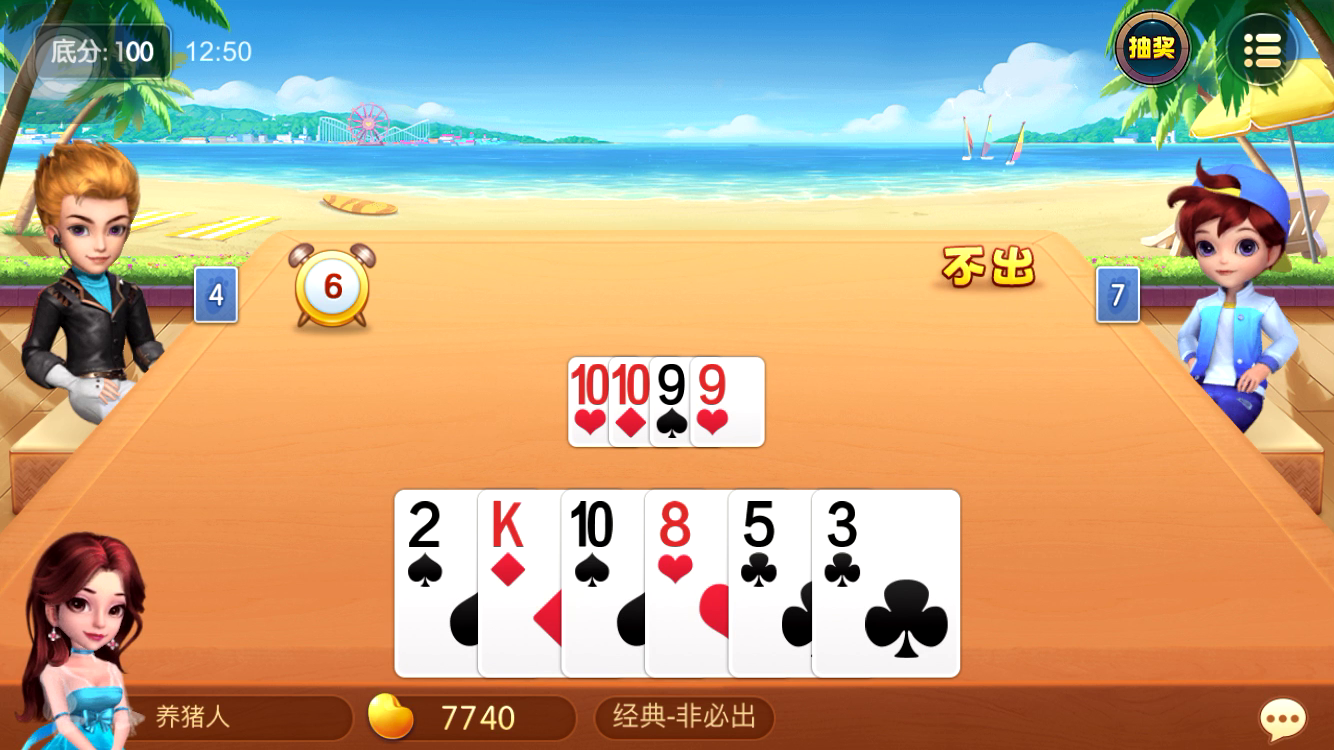K: (482, 494, 537, 557)
eight: (651, 500, 703, 555)
five: (734, 495, 790, 557)
nine: (693, 361, 740, 410), (651, 360, 690, 410)
ten: (563, 496, 620, 557), (567, 359, 611, 408), (610, 360, 654, 408)
three: (815, 496, 881, 554)
two: (399, 496, 456, 558)
